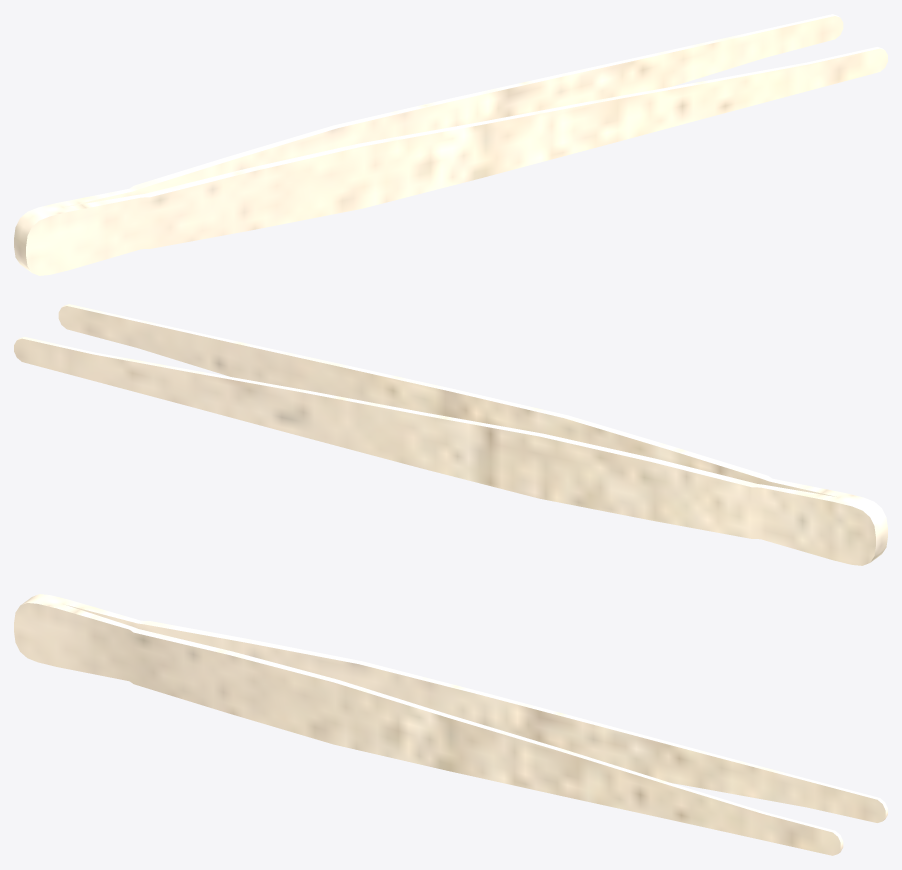
The model's file is SM_OPR_Thumb_Tissue_Forceps_01.fbx.
3 views of the same model, one above another, from view 1: azimuth 30°, elevation 25°; view 2: azimuth 150°, elevation 25°; view 3: azimuth 330°, elevation 25° (orthographic).
Visible parts, largest first — view 1: SM_OPR_Thumb_Tissue_Forceps_01_LOD0; view 2: SM_OPR_Thumb_Tissue_Forceps_01_LOD0; view 3: SM_OPR_Thumb_Tissue_Forceps_01_LOD0.
Part boxes in pixels (left/top/right/bottom): SM_OPR_Thumb_Tissue_Forceps_01_LOD0: left=14, top=14, right=887, bottom=275; SM_OPR_Thumb_Tissue_Forceps_01_LOD0: left=14, top=304, right=887, bottom=565; SM_OPR_Thumb_Tissue_Forceps_01_LOD0: left=14, top=594, right=887, bottom=855.
Bounding box in the file's own units: 21.14 × 2.05 × 1.49.
1 material, 1 textured.
